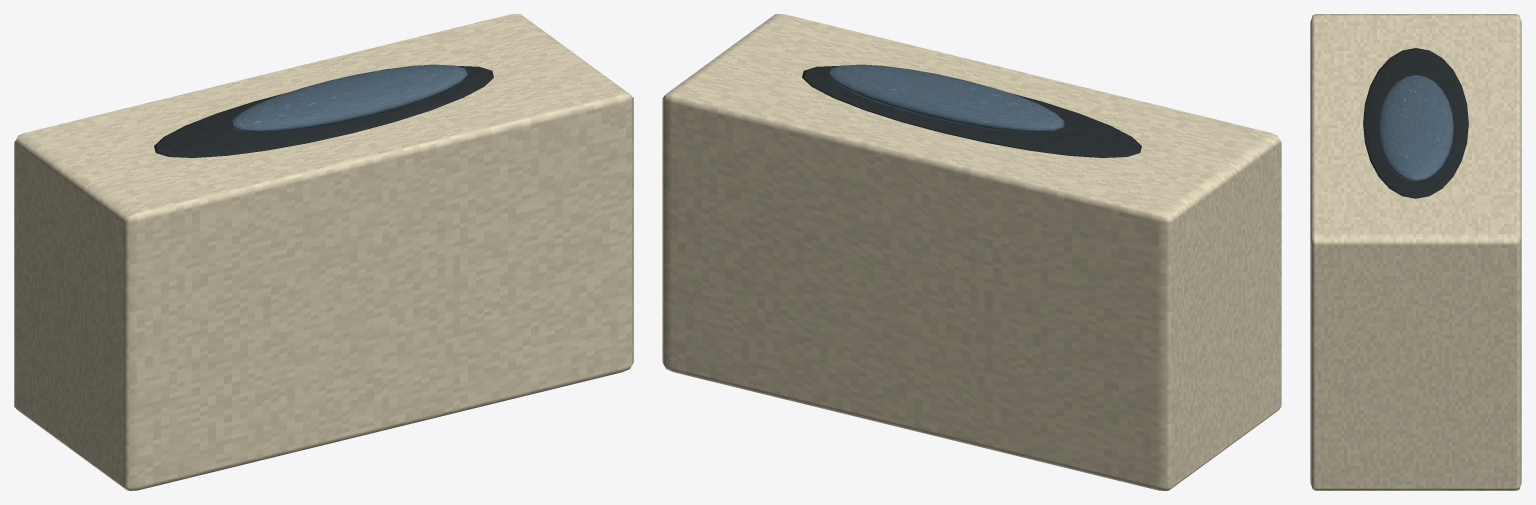
Rendered from glove-box.glb.
3 renders of one model, left to right at view 1: azimuth 30°, elevation 25°; view 2: azimuth 150°, elevation 25°; view 3: azimuth 270°, elevation 25°, orthographic. The views are drawn at different scales.
Visible parts, largest first — view 1: carton, glove, opening; view 2: carton, glove, opening; view 3: carton, glove, opening.
Boxes of the visible parts, x1,y1,x2,y2 form: carton: (14,14,633,490); glove: (231,64,467,132); opening: (154,66,493,157); carton: (662,14,1281,490); glove: (828,64,1064,132); opening: (802,66,1141,157); carton: (1310,14,1521,490); glove: (1378,75,1453,181); opening: (1363,48,1468,198).
Size of the model in its own units: 0.23 by 0.1284 by 0.09.
3 materials, 3 textured.
